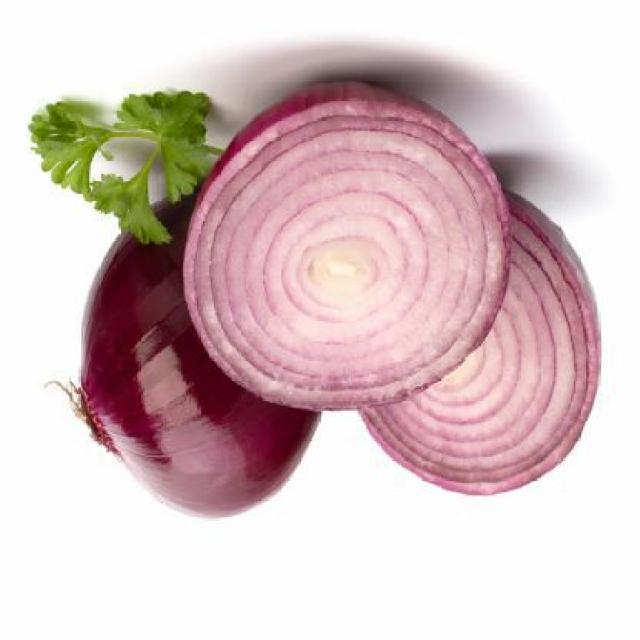onion: (186, 90, 519, 412), (54, 222, 328, 516), (348, 190, 600, 501)
